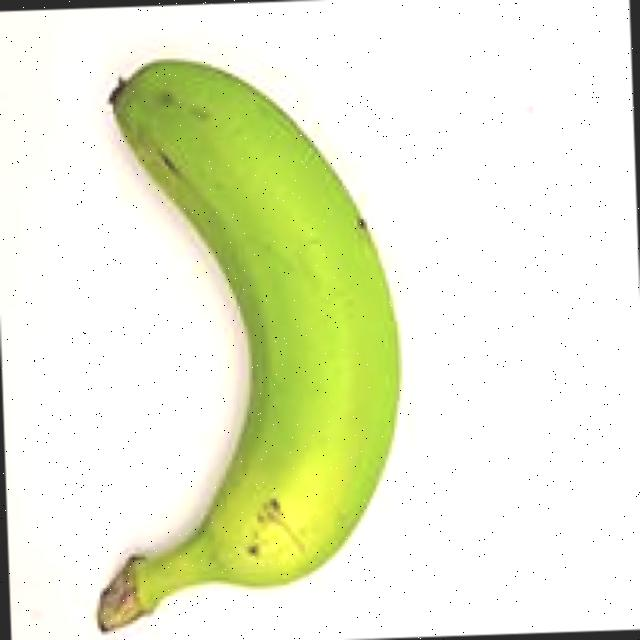Unripe: (8, 29, 428, 640)
